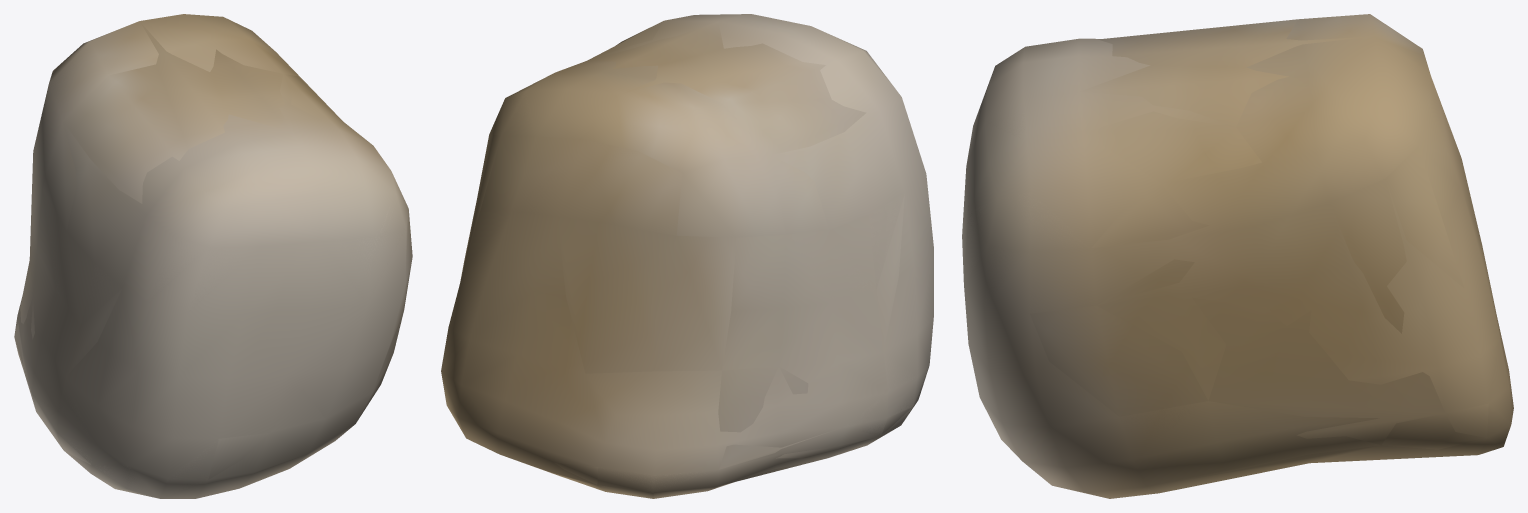
The model's file is R carpale quartum.fbx.
3 views of the same model, side by side, from view 1: azimuth 30°, elevation 25°; view 2: azimuth 150°, elevation 25°; view 3: azimuth 270°, elevation 25° (orthographic). The views are drawn at different scales.
Visible parts, largest first — view 1: R carpale quartum, R carpale quartum low; view 2: R carpale quartum, R carpale quartum low; view 3: R carpale quartum, R carpale quartum low.
Part boxes in pixels (x1=…): R carpale quartum: x1=14, y1=14, x2=412, y2=498; R carpale quartum low: x1=14, y1=22, x2=407, y2=498; R carpale quartum: x1=441, y1=14, x2=933, y2=498; R carpale quartum low: x1=464, y1=14, x2=924, y2=498; R carpale quartum: x1=962, y1=14, x2=1513, y2=498; R carpale quartum low: x1=964, y1=15, x2=1500, y2=498.
Bounding box in the file's own units: 0.9197 × 1.05 × 1.19.
